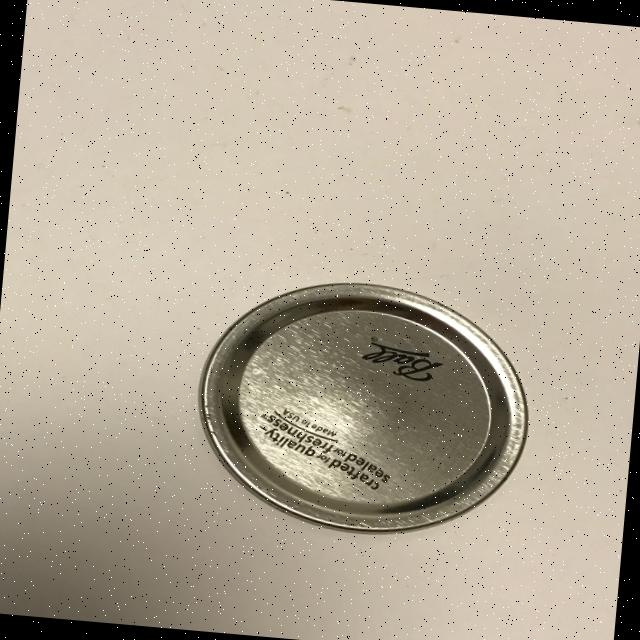metal: (186, 268, 540, 548)
